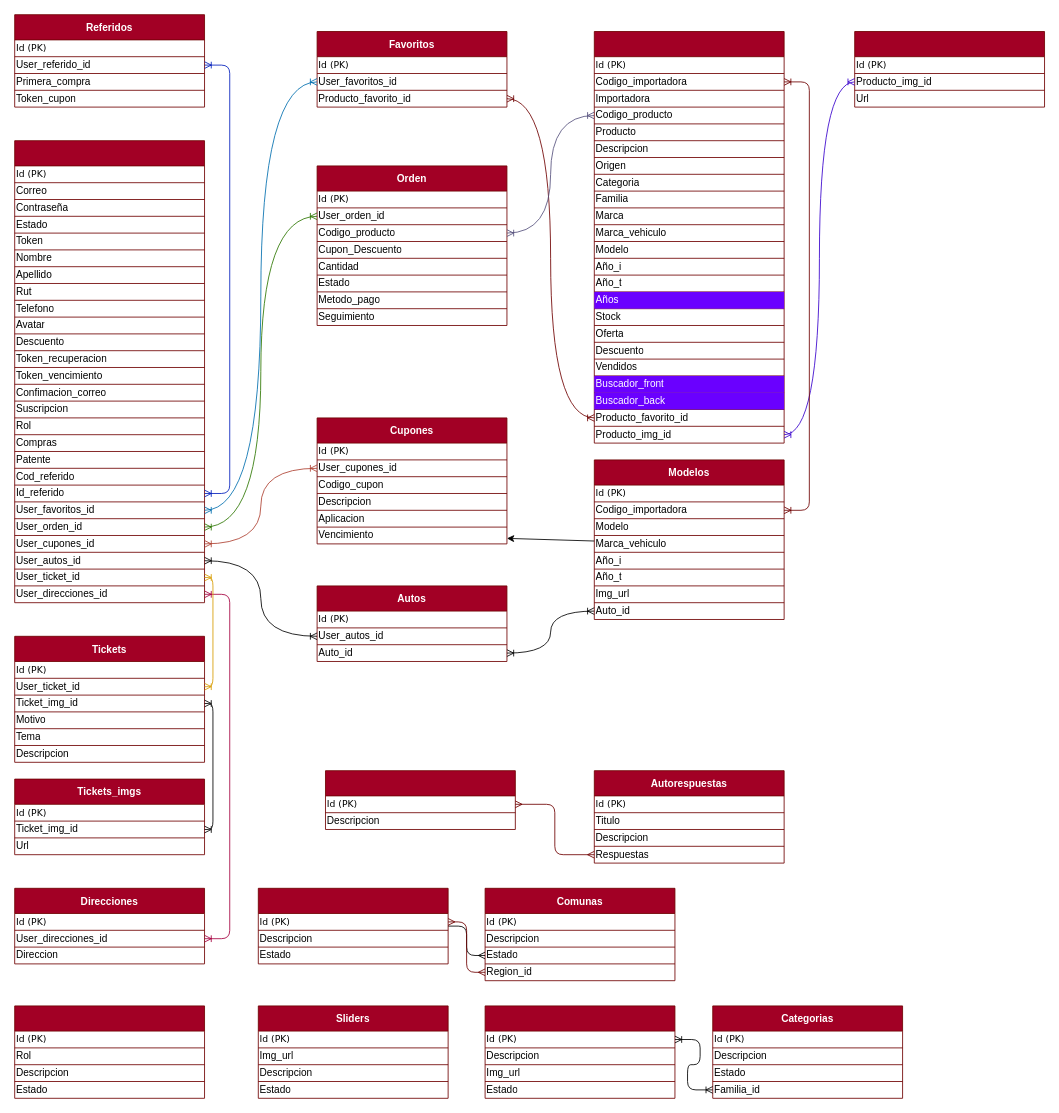
This 1059x1113 diagram has some shape labels left out. Here are the shapes that lost their labels. From the top down, the box of each, then its label:
(854, 31, 1045, 107): Productos_imgs
(593, 31, 784, 443): Productos
(14, 140, 205, 603): Usuarios
(325, 770, 515, 830): Motivos
(257, 887, 448, 964): Region
(14, 1005, 205, 1098): Menus
(484, 1005, 675, 1098): Familias
